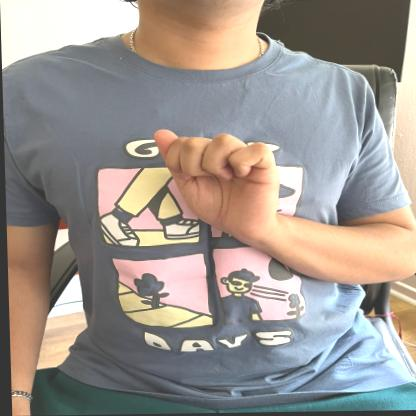A: (146, 123, 285, 231)
